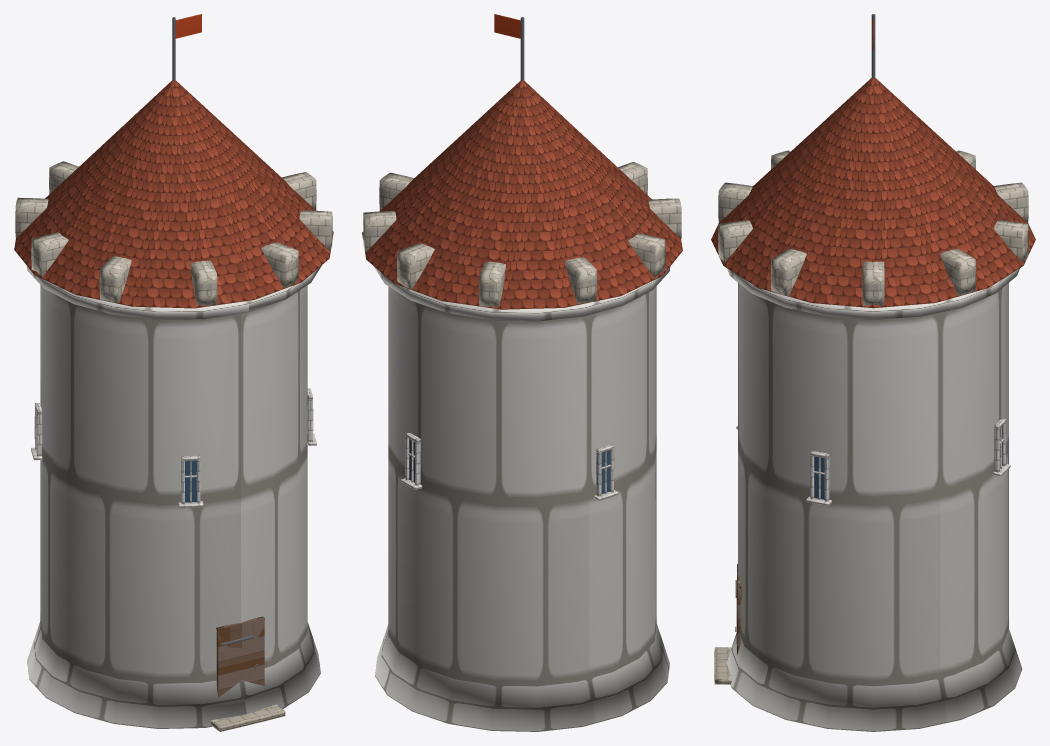
The model's file is building_wall_tower.glb.
3 views of the same model, side by side, from view 1: azimuth 30°, elevation 25°; view 2: azimuth 150°, elevation 25°; view 3: azimuth 270°, elevation 25° (orthographic).
Visible parts, largest first — view 1: building_wall_tower_stone_blocks, building_wall_tower; view 2: building_wall_tower_stone_blocks, building_wall_tower; view 3: building_wall_tower_stone_blocks, building_wall_tower.
Part boxes in pixels (x1,y1,x2,y2): building_wall_tower_stone_blocks: (15,161,332,731); building_wall_tower: (14,14,333,696); building_wall_tower_stone_blocks: (363,162,681,731); building_wall_tower: (362,14,682,493); building_wall_tower_stone_blocks: (714,150,1028,731); building_wall_tower: (711,14,1035,654).
Size of the model in its own units: 7.2 by 16 by 7.2.
6 materials, 3 textured.
